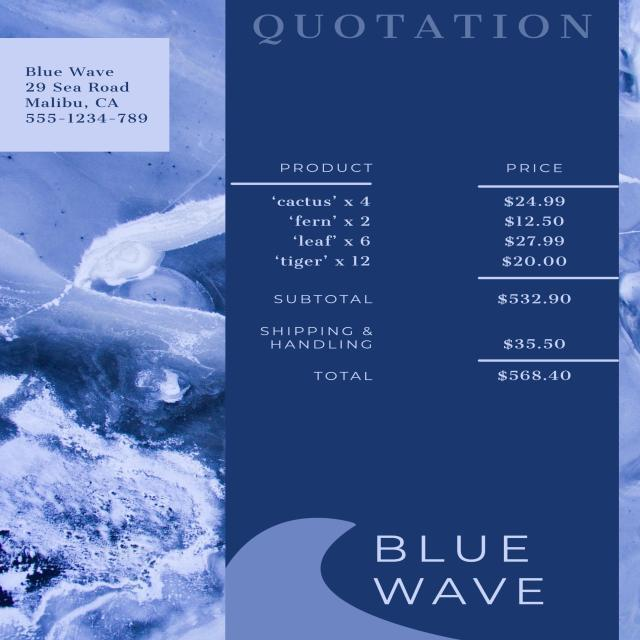paragraph: (255, 153, 599, 277), (251, 322, 591, 400), (372, 523, 547, 608), (255, 9, 590, 48), (15, 56, 159, 135), (266, 289, 590, 309)
